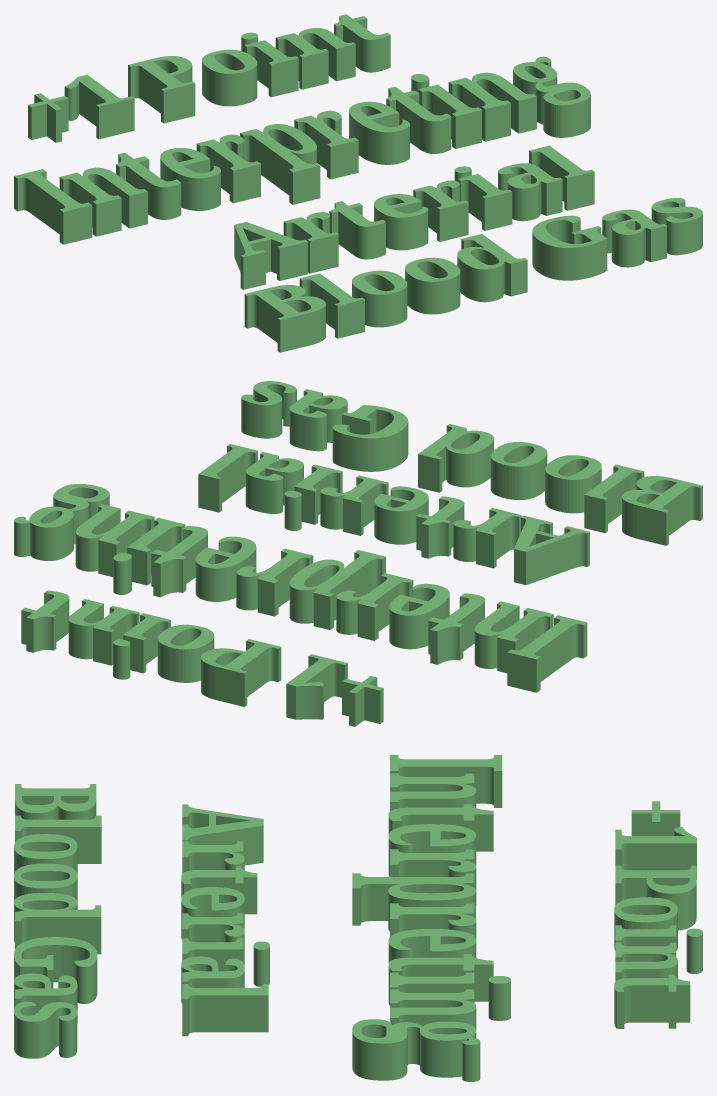
Rendered from posart.gltf.
3 renders of one model, top to bottom at view 1: azimuth 30°, elevation 25°; view 2: azimuth 150°, elevation 25°; view 3: azimuth 270°, elevation 25°, orthographic. The views are drawn at different scales.
Visible parts, largest first — view 1: Mesh_Mesh_head_geo001_lambert2SG001; view 2: Mesh_Mesh_head_geo001_lambert2SG001; view 3: Mesh_Mesh_head_geo001_lambert2SG001.
Part boxes in pixels (x1,y1,x2,y2): Mesh_Mesh_head_geo001_lambert2SG001: (14,14,702,352); Mesh_Mesh_head_geo001_lambert2SG001: (14,381,702,726); Mesh_Mesh_head_geo001_lambert2SG001: (14,755,702,1081).
Size of the model in its own units: 168 by 10 by 168.
